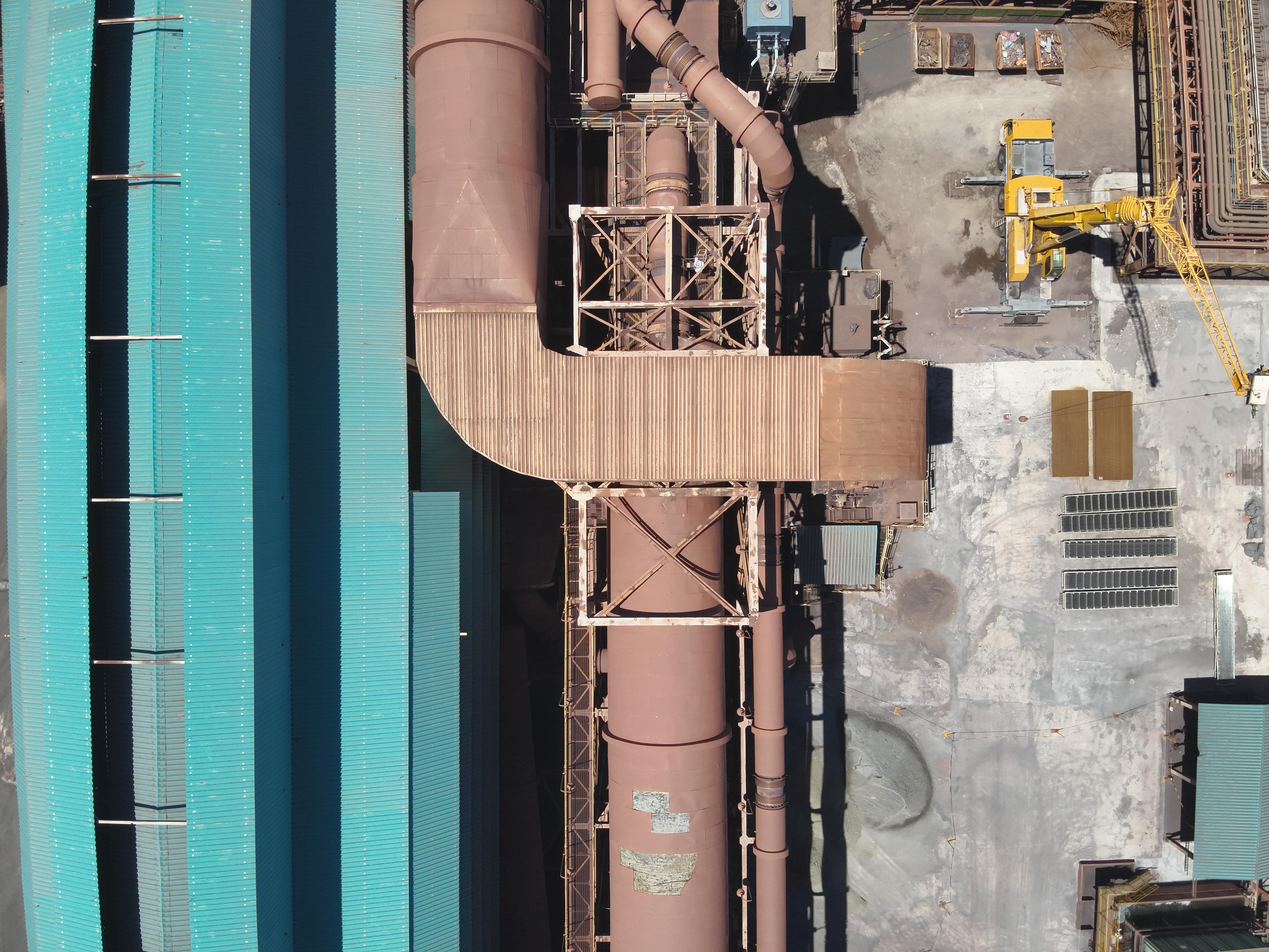Failures: (619, 847, 699, 875), (631, 876, 694, 897), (629, 788, 672, 814), (648, 812, 691, 835)
